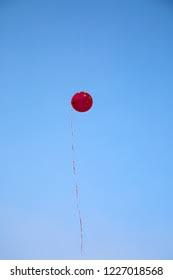Balloon: (70, 90, 93, 113)
